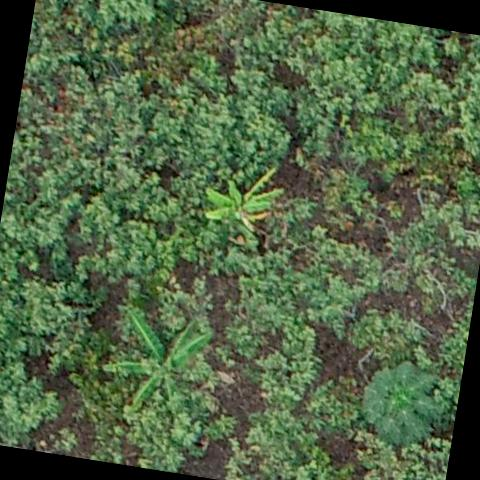Banana-plant: (94, 298, 223, 428), (192, 152, 294, 252)
